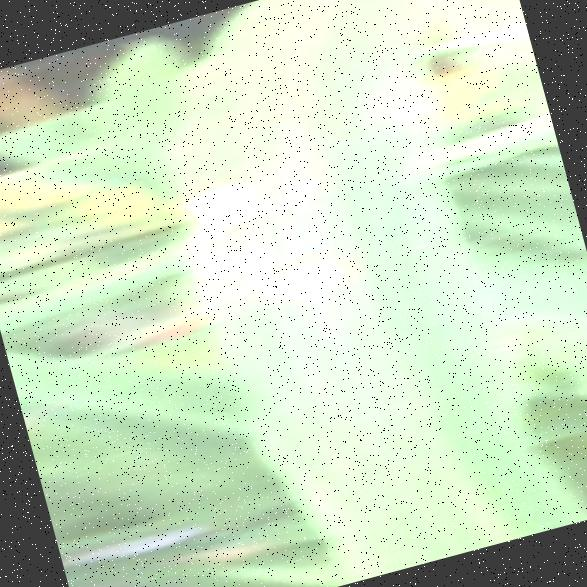Leaf_smut: (233, 230, 383, 339), (152, 166, 266, 252)
